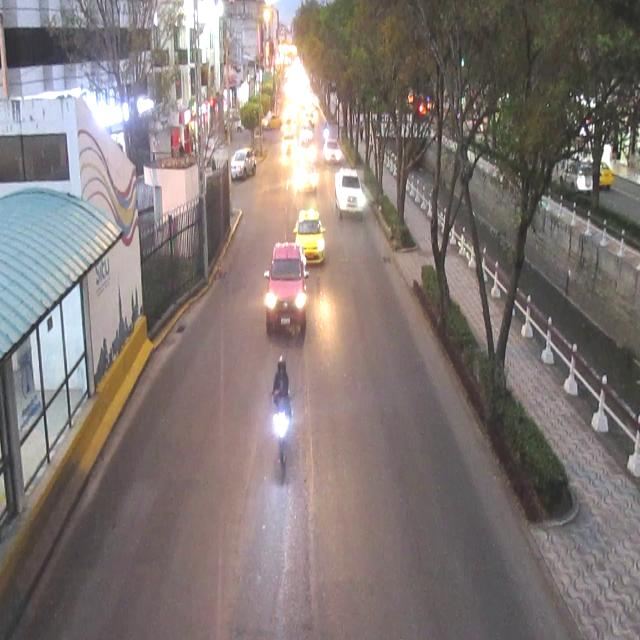MOTORCYCLE: (274, 359, 292, 476)
SUV: (268, 242, 307, 329), (232, 151, 256, 181)
